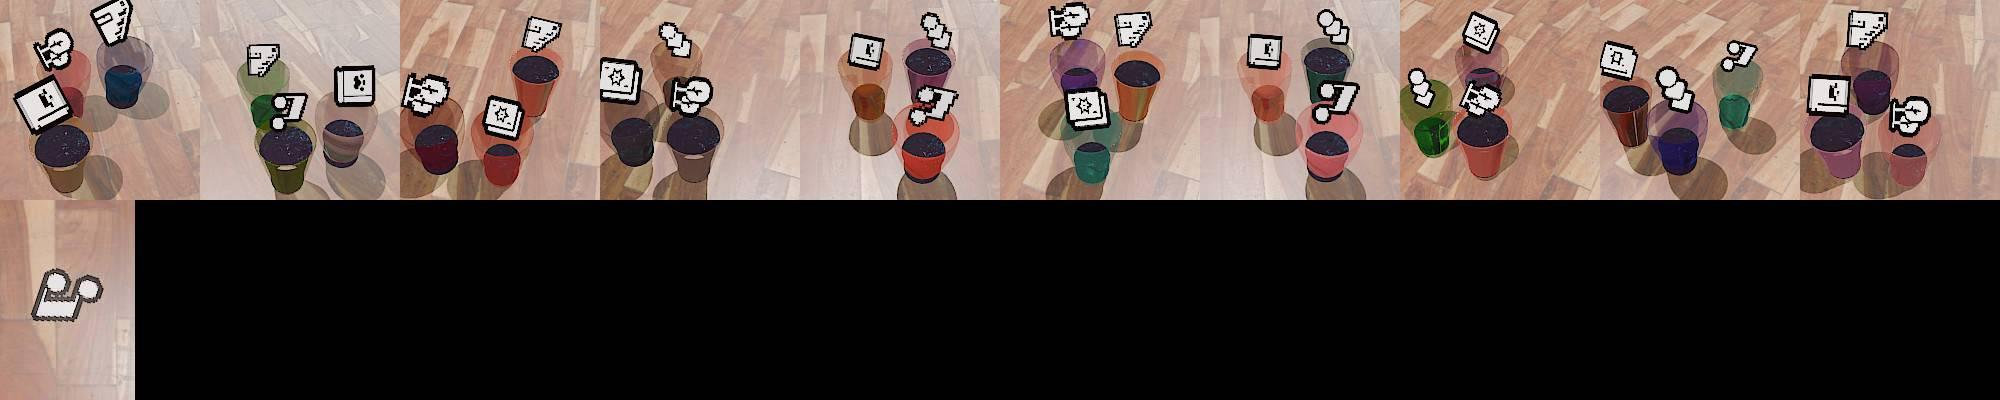icon: (31, 268, 110, 322), (11, 78, 77, 136), (1311, 79, 1361, 126), (402, 71, 452, 116), (907, 85, 958, 127), (598, 56, 642, 104), (482, 93, 526, 141), (1806, 74, 1852, 118), (89, 0, 133, 47), (1064, 87, 1110, 130), (1654, 65, 1695, 113), (668, 74, 713, 117), (334, 64, 376, 107), (1889, 96, 1931, 138), (1846, 9, 1888, 51), (1597, 41, 1639, 83), (33, 28, 74, 71), (1460, 10, 1500, 54), (1048, 1, 1092, 39), (1459, 79, 1501, 117), (522, 15, 562, 54), (1112, 11, 1153, 48), (270, 92, 310, 129), (847, 33, 884, 71), (658, 20, 694, 59), (920, 11, 954, 51), (1246, 34, 1283, 70), (245, 42, 279, 79), (1721, 39, 1758, 73), (1316, 9, 1349, 46), (1407, 68, 1434, 108)
